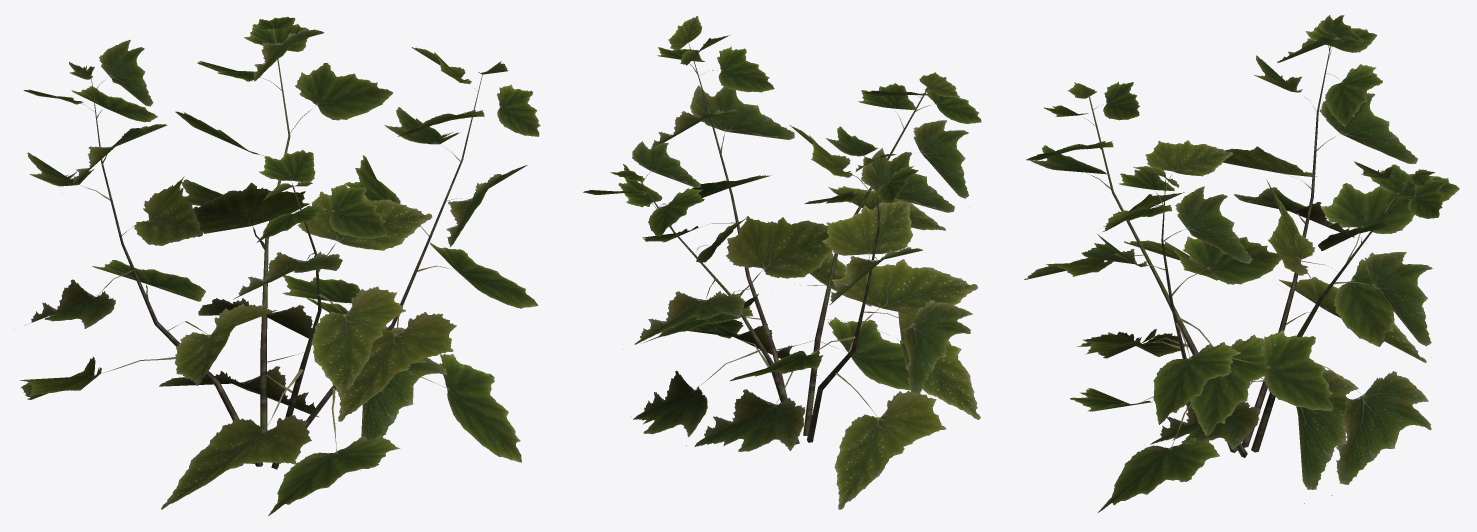
Rendered from Begonia_aconitifolia01a.fbx.
3 renders of one model, left to right at view 1: azimuth 30°, elevation 25°; view 2: azimuth 150°, elevation 25°; view 3: azimuth 270°, elevation 25°, orthographic. The views are drawn at different scales.
Visible parts, largest first — view 1: Begonia_aconitifolia01a.001; view 2: Begonia_aconitifolia01a.001; view 3: Begonia_aconitifolia01a.001.
Boxes of the visible parts, x1,y1,x2,y2 form: Begonia_aconitifolia01a.001: (14, 16, 540, 515); Begonia_aconitifolia01a.001: (583, 16, 981, 509); Begonia_aconitifolia01a.001: (1024, 15, 1459, 512).
Size of the model in its own units: 608 by 542 by 567.
1 material, 1 textured.
